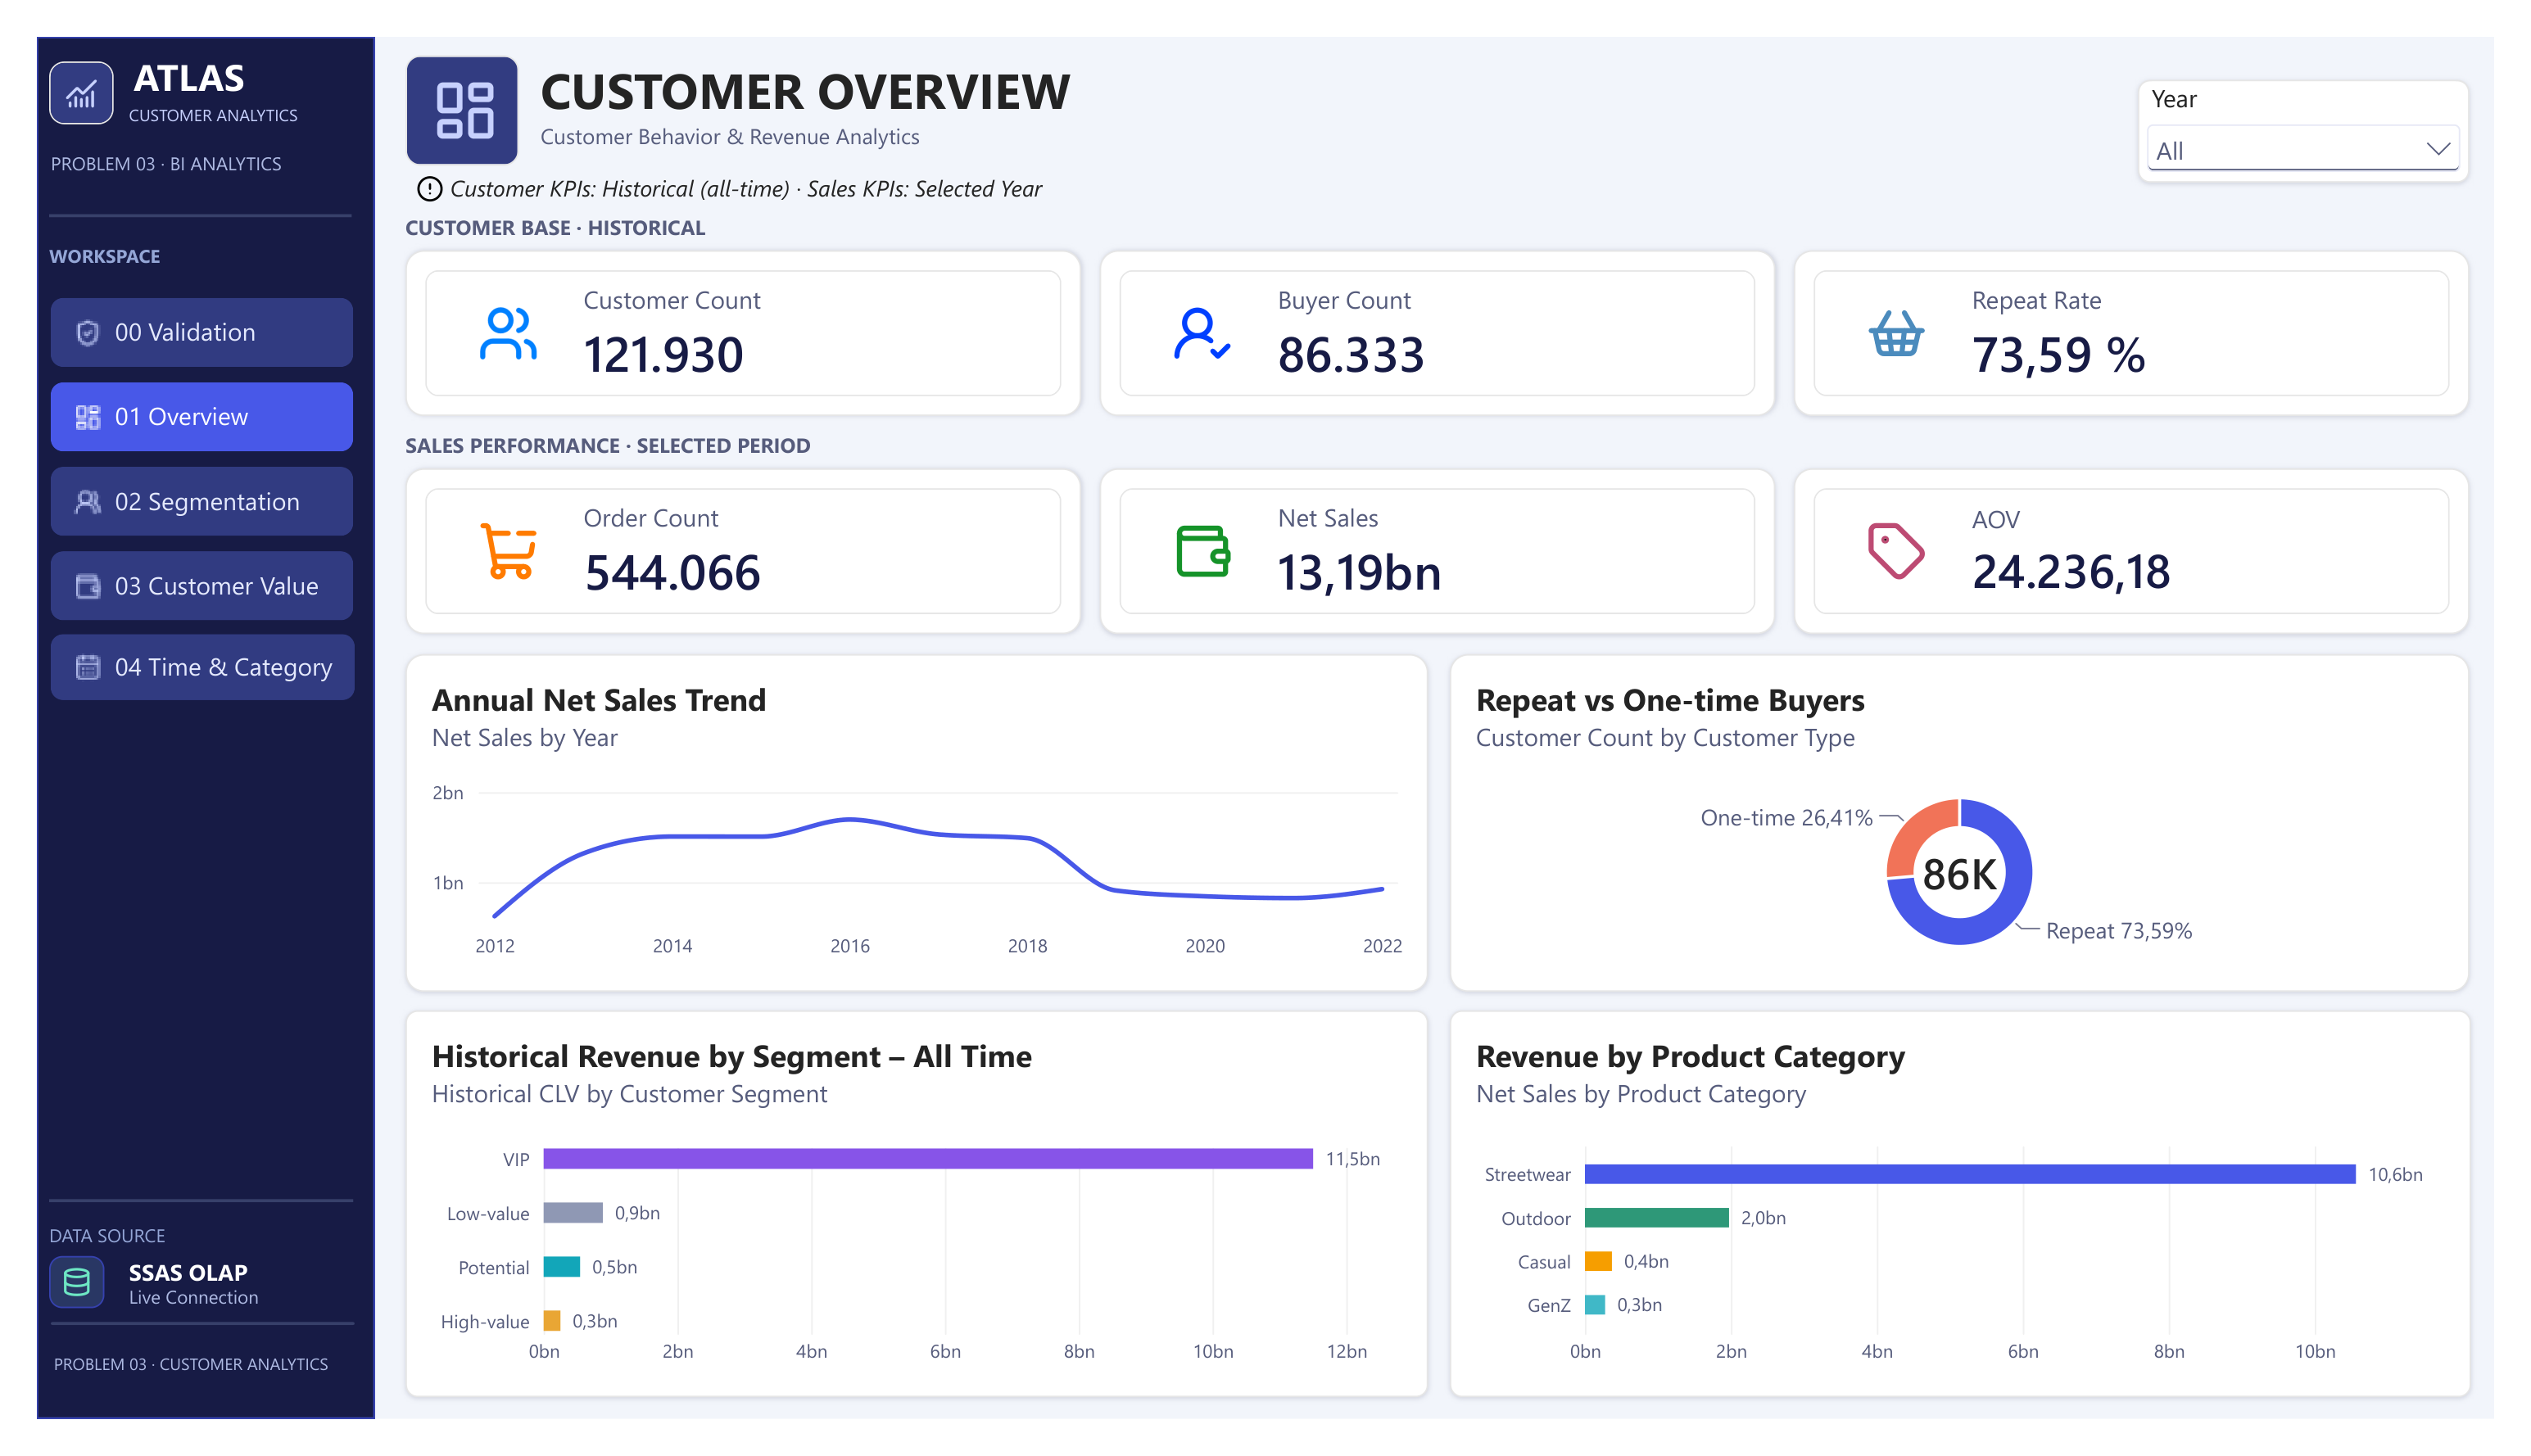

The page's visual inventory and layout, read from the dashboard file:
{"tool":"powerbi","page":{"name":"01_Customer_Overview","canvas":[1600,900],"ordinal":1},"visuals":[{"type":"shape","box":[0,0,220,900],"z":0,"group":"g2"},{"type":"shape","box":[240,12.2,74,72],"z":0,"group":"g1"},{"type":"textbox","box":[328,12.2,382,52],"z":0,"group":"g3"},{"type":"image","box":[241.7,90,26.7,18.3],"z":0,"group":"g4"},{"type":"textbox","box":[62.7,9.2,144.4,34.4],"z":1000,"group":"g2"},{"type":"image","box":[254.8,26.6,46.9,43.2],"z":1000,"group":"g1"},{"type":"textbox","box":[328,55.2,736,22],"z":1000,"group":"g3"},{"type":"textbox","box":[268.4,88.3,500,25],"z":1000,"group":"g4"},{"type":"cardVisual","fields":{"Data":["V FACT ORDER OFFICIAL.Order Count"]},"box":[240,281.1,440,108],"z":1000},{"type":"group","id":"g1","title":"Group 2","box":[240,12.2,74,72],"z":2000,"group":"g3"},{"type":"cardVisual","fields":{"Data":["V FACT CUSTOMER ANALYTICS.Buyer Count"]},"box":[692,139.1,440,108],"z":2000},{"type":"actionButton","box":[9.3,170.4,196.9,44.7],"z":2000,"group":"g2"},{"type":"cardVisual","fields":{"Data":["V FACT CUSTOMER ANALYTICS.Customer Count"]},"box":[240,139.1,440,108],"z":3000},{"type":"actionButton","box":[8.9,389,197.7,43.5],"z":3000,"group":"g2"},{"type":"actionButton","box":[9.3,280.2,196.9,44.7],"z":4000,"group":"g2"},{"type":"cardVisual","fields":{"Data":["V FACT SALES LINE OFFICIAL.Net Sales"]},"box":[692,281.1,440,108],"z":4000},{"type":"cardVisual","fields":{"Data":["V FACT CUSTOMER MONTHLY OFFICIAL.AOV"]},"box":[1144,281.1,440,108],"z":5000},{"type":"actionButton","box":[9.3,335.1,196.9,44.7],"z":5000,"group":"g2"},{"type":"cardVisual","fields":{"Data":["Measures.Repeat Rate"]},"box":[1144,139.1,440,108],"z":6000},{"type":"actionButton","box":[9.3,225.3,196.9,44.7],"z":6000,"group":"g2"},{"type":"shape","box":[8.5,16.4,41.2,40.5],"z":7000,"group":"g2"},{"type":"lineChart","title":"Annual Net Sales Trend","fields":{"Category":["Date.Year"],"Y":["V FACT SALES LINE OFFICIAL.Net Sales"]},"box":[240,402,666,220],"z":7000},{"type":"image","box":[17.8,25.5,22.7,22.3],"z":8000,"group":"g2"},{"type":"donutChart","title":"Repeat vs One-time Buyers","fields":{"Category":["Customer.Customer Type"],"Y":["V FACT CUSTOMER ANALYTICS.Customer Count"]},"box":[920,402,664,220],"z":8000},{"type":"textbox","box":[60.3,40.1,139.2,21.7],"z":9000,"group":"g2"},{"type":"clusteredBarChart","title":"Historical Revenue by Segment – All Time","fields":{"Category":["Customer.Customer Segment"],"Y":["V FACT CUSTOMER ANALYTICS.Historical CLV"]},"box":[240,634,666,252],"z":9000},{"type":"textbox","box":[8.9,71.8,197.8,23],"z":10000,"group":"g2"},{"type":"clusteredBarChart","title":"Revenue by Product Category","fields":{"Category":["Product.Category"],"Y":["V FACT SALES LINE OFFICIAL.Net Sales"]},"box":[920,634,665,251.7],"z":10000},{"type":"slicer","fields":{"Values":["Date.Year"]},"box":[1368.3,28.3,215.6,66.7],"z":11000},{"type":"shape","box":[8.5,109.6,196.9,13.8],"z":11000,"group":"g2"},{"type":"group","id":"g2","title":"Group 1","box":[0,0,220,900],"z":12000},{"type":"textbox","box":[8.5,131.9,191.8,20.3],"z":12000,"group":"g2"},{"type":"textbox","box":[240,114.1,700,20],"z":13000},{"type":"shape","box":[8.5,748,198,20.3],"z":13000,"group":"g2"},{"type":"textbox","box":[240,255.8,700,20],"z":14000},{"type":"textbox","box":[8.5,770.3,175.3,20.3],"z":14000,"group":"g2"},{"type":"group","id":"g3","title":"Group 3","box":[240,12.2,823.3,71.7],"z":15000},{"type":"shape","box":[8.5,793.6,35.1,34.5],"z":15000,"group":"g2"},{"type":"group","id":"g4","title":"Group 4","box":[241.7,88.3,526.7,25],"z":16000},{"type":"image","box":[15.7,800.7,20.6,20.3],"z":16000,"group":"g2"},{"type":"textbox","box":[59.6,793.6,123.7,27],"z":17000,"group":"g2"},{"type":"textbox","box":[59.6,810.5,122,18.6],"z":18000,"group":"g2"},{"type":"shape","box":[9.2,832.4,197.7,11.8],"z":19000,"group":"g2"},{"type":"textbox","box":[10.9,852.7,195.9,20.3],"z":20000,"group":"g2"}]}

Visuals, with their boxes on the page's 1600x900 design canvas (x1, y1, x2, y2). These are canvas units, not pixel positions in the 2531x1456 screenshot, which may show the page scaled, cropped or inside an application window:
shape: <box>0,0,220,900</box>
shape: <box>240,12,314,84</box>
textbox: <box>328,12,710,64</box>
image: <box>242,90,268,108</box>
textbox: <box>63,9,207,44</box>
image: <box>255,27,302,70</box>
textbox: <box>328,55,1064,77</box>
textbox: <box>268,88,768,113</box>
cardVisual - V FACT ORDER OFFICIAL.Order Count: <box>240,281,680,389</box>
"Group 2" group: <box>240,12,314,84</box>
cardVisual - V FACT CUSTOMER ANALYTICS.Buyer Count: <box>692,139,1132,247</box>
actionButton: <box>9,170,206,215</box>
cardVisual - V FACT CUSTOMER ANALYTICS.Customer Count: <box>240,139,680,247</box>
actionButton: <box>9,389,207,432</box>
actionButton: <box>9,280,206,325</box>
cardVisual - V FACT SALES LINE OFFICIAL.Net Sales: <box>692,281,1132,389</box>
cardVisual - V FACT CUSTOMER MONTHLY OFFICIAL.AOV: <box>1144,281,1584,389</box>
actionButton: <box>9,335,206,380</box>
cardVisual - Measures.Repeat Rate: <box>1144,139,1584,247</box>
actionButton: <box>9,225,206,270</box>
shape: <box>8,16,50,57</box>
"Annual Net Sales Trend" lineChart: <box>240,402,906,622</box>
image: <box>18,26,40,48</box>
"Repeat vs One-time Buyers" donutChart: <box>920,402,1584,622</box>
textbox: <box>60,40,200,62</box>
"Historical Revenue by Segment – All Time" clusteredBarChart: <box>240,634,906,886</box>
textbox: <box>9,72,207,95</box>
"Revenue by Product Category" clusteredBarChart: <box>920,634,1585,886</box>
slicer - Date.Year: <box>1368,28,1584,95</box>
shape: <box>8,110,205,123</box>
"Group 1" group: <box>0,0,220,900</box>
textbox: <box>8,132,200,152</box>
textbox: <box>240,114,940,134</box>
shape: <box>8,748,206,768</box>
textbox: <box>240,256,940,276</box>
textbox: <box>8,770,184,791</box>
"Group 3" group: <box>240,12,1063,84</box>
shape: <box>8,794,44,828</box>
"Group 4" group: <box>242,88,768,113</box>
image: <box>16,801,36,821</box>
textbox: <box>60,794,183,821</box>
textbox: <box>60,810,182,829</box>
shape: <box>9,832,207,844</box>
textbox: <box>11,853,207,873</box>
